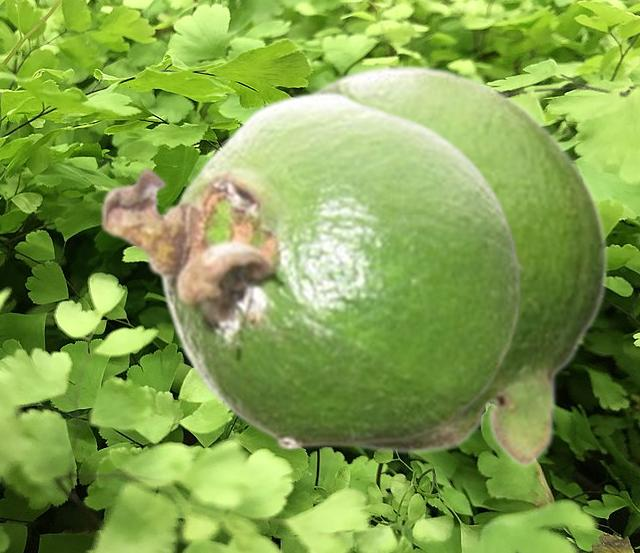guava: (98, 89, 524, 450), (311, 62, 608, 469)
